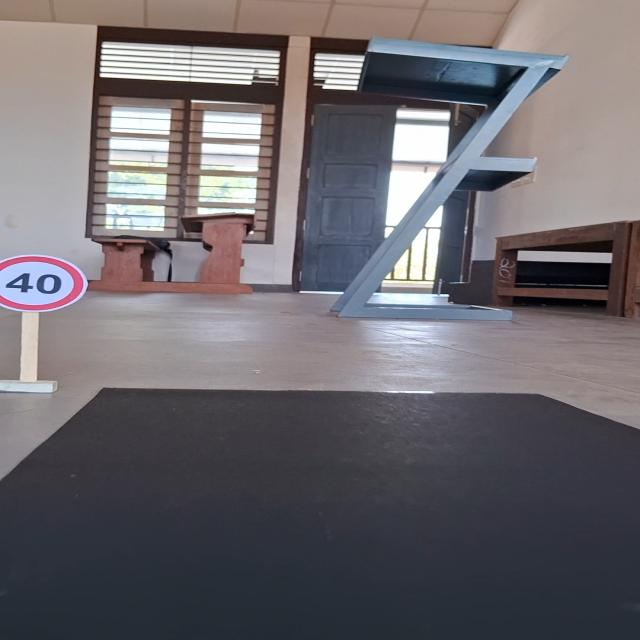Speed40: (0, 252, 89, 313)
